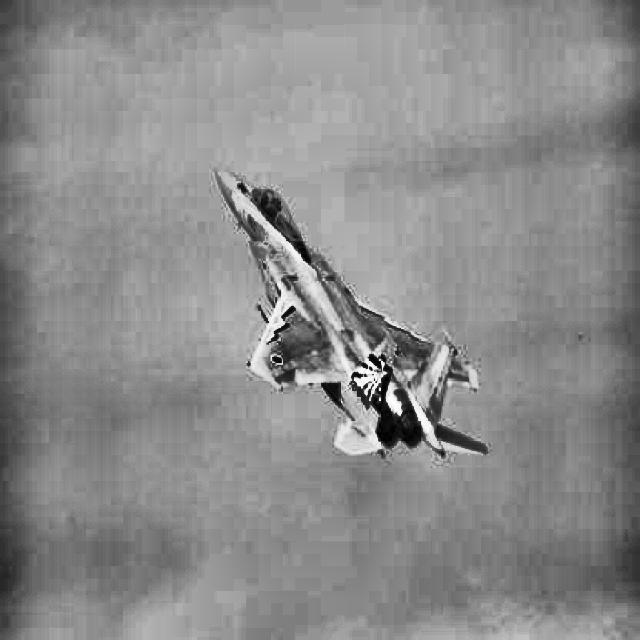F15: (215, 166, 487, 459)
